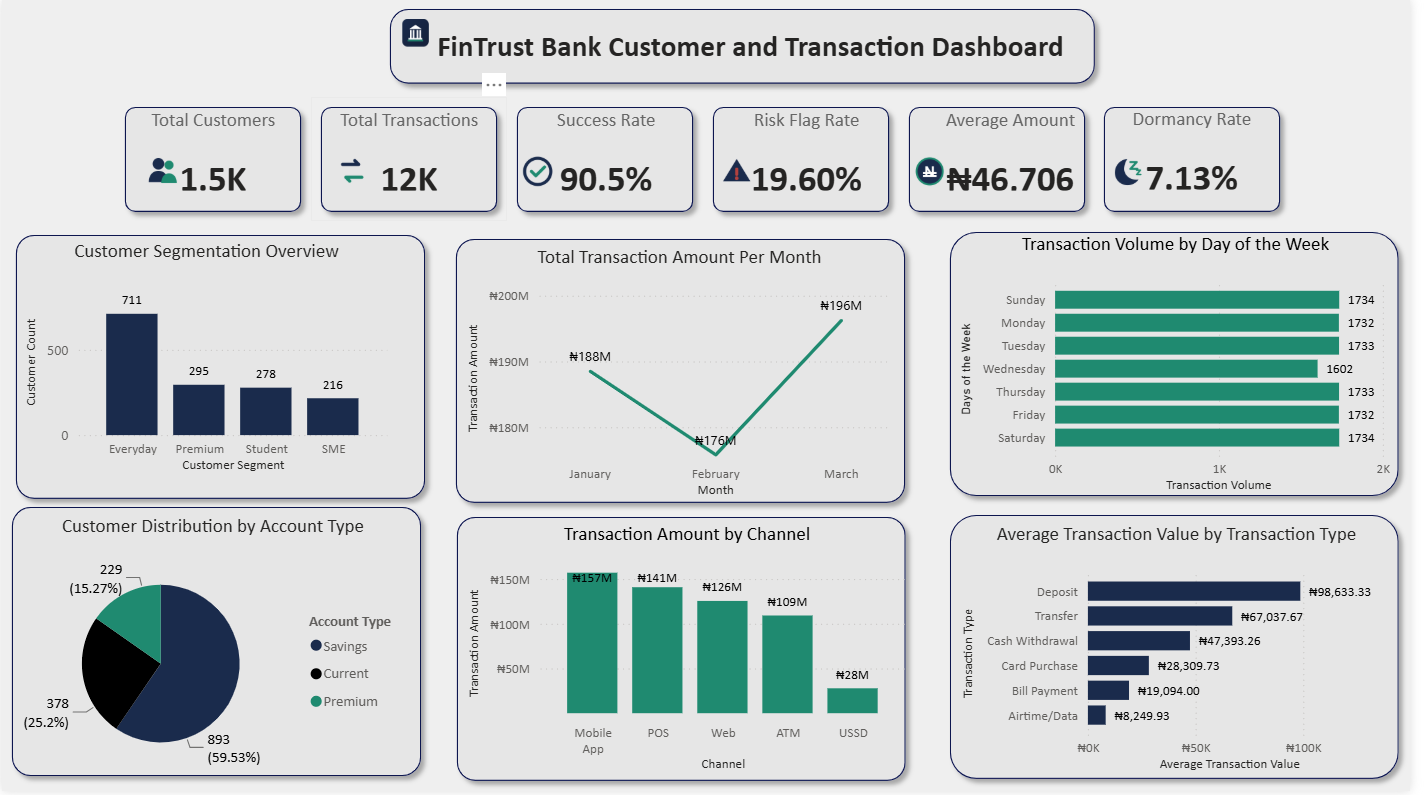

Layout of this report page (visuals, bound fields, positions):
{"tool":"powerbi","page":{"name":"Duplicate of FinTrust Bank","canvas":[1280,720],"ordinal":0},"visuals":[{"type":"shape","box":[271.3,0.9,723.5,86],"z":0},{"type":"textbox","box":[312.1,23.1,665,63.8],"z":1000},{"type":"shape","box":[102.9,88.7,178.2,113.5],"z":2000},{"type":"shape","box":[281.1,88.7,178.2,113.5],"z":3000},{"type":"shape","box":[459.3,88.7,178.2,113.5],"z":4000},{"type":"shape","box":[637.5,88.7,178.2,113.5],"z":5000},{"type":"shape","box":[852.7,202.7,426,258.2],"z":6000},{"type":"shape","box":[3.6,205.5,390,258],"z":7000},{"type":"shape","box":[403.6,209.5,426.4,258],"z":8000},{"type":"shape","box":[0,452.7,390,262.7],"z":9000},{"type":"shape","box":[852.7,460,426,258],"z":10000},{"type":"cardVisual","title":"Total Customers","fields":{"Data":["Copy of FinTrust_Customer_Data.Total Customers"]},"box":[112.6,98.4,158.7,93.1],"z":11000},{"type":"shape","box":[815.8,88.7,178.2,113.5],"z":12000},{"type":"image","box":[129.1,132.7,34.5,47],"z":13000},{"type":"cardVisual","title":"Total Transactions","fields":{"Data":["Copy of FinTrust_Customer_Data.Total Transactions"]},"box":[290.8,98.4,158.7,93.1],"z":14000},{"type":"cardVisual","title":"Success Rate","fields":{"Data":["Copy of FinTrust_Customer_Data.Success Rate"]},"box":[470,98.4,158.7,93.1],"z":15000},{"type":"cardVisual","title":"Risk Flag Rate","fields":{"Data":["Copy of FinTrust_Customer_Data.Risk Review Rate"]},"box":[628.7,98.4,204.8,93.1],"z":16000},{"type":"cardVisual","title":"Average Amount","fields":{"Data":["Avg(FinTrust_Transaction_Clean.Amount_NGN)"]},"box":[815.5,98.2,202.7,93.6],"z":17000},{"type":"lineChart","title":"Total Transaction Amount Per Month","fields":{"Y":["Sum(FinTrust_Transaction_Clean.Amount_NGN)"],"Category":["FinTrust_Transaction_Clean.Month Name"]},"box":[418.2,223.1,395.5,235.5],"z":18000},{"type":"barChart","title":"Average Transaction Value by Transaction Type","fields":{"Category":["FinTrust_Transaction_Clean.Transaction_Type"],"Y":["Avg(FinTrust_Transaction_Clean.Amount_NGN)"]},"box":[868.2,474.5,399.1,232.7],"z":19000},{"type":"pieChart","title":"Customer Distribution by Account Type","fields":{"Category":["Copy of FinTrust_Customer_Data.Account_Type"],"Y":["Count(FinTrust_Transaction_Clean.Customer_ID)"]},"box":[4.5,467.3,374.5,240.9],"z":20000},{"type":"barChart","title":"Transaction Volume by Day of the Week","fields":{"Y":["CountNonNull(FinTrust_Transaction_Clean.Transaction_ID)"],"Category":["FinTrust_Transaction_Clean.Day Name"]},"box":[866.4,210.9,400.9,242.7],"z":21000},{"type":"columnChart","title":"Customer Segmentation Overview","fields":{"Category":["Copy of FinTrust_Customer_Data.Customer_Segment"],"Y":["Count(FinTrust_Transaction_Clean.Customer_ID)"]},"box":[16,217.2,362.7,235.9],"z":22000},{"type":"image","box":[826.4,132.7,34,47],"z":23000},{"type":"image","box":[650.9,132.7,34,47],"z":24000},{"type":"image","box":[470,132.7,34,47],"z":25000},{"type":"image","box":[300.9,132.7,34.5,47.3],"z":26000},{"type":"shape","box":[993.1,88.7,178.2,113.5],"z":27000},{"type":"cardVisual","title":"Dormancy Rate","fields":{"Data":["Copy of FinTrust_Customer_Data.Dormancy Rate"]},"box":[1005.5,97.5,152.5,93.1],"z":28000},{"type":"shape","box":[404.5,462.2,426,258],"z":29000},{"type":"columnChart","title":"Transaction Amount by Channel","fields":{"Y":["Sum(FinTrust_Transaction_Clean.Amount_NGN)"],"Category":["FinTrust_Transaction_Clean.Channel"]},"box":[419.1,474.9,407.3,232.7],"z":30000},{"type":"image","box":[1005.5,133,34,47],"z":31000},{"type":"image","box":[289.1,22.2,46.1,32.8],"z":32000}]}

Visuals, with their boxes in screenshot pixels (x1, y1, x2, y2), scaled from the page's 1280x720 canvas onto the 1424x795 screenshot:
shape: bbox=(302, 1, 1107, 96)
textbox: bbox=(347, 26, 1087, 96)
shape: bbox=(114, 98, 313, 223)
shape: bbox=(313, 98, 511, 223)
shape: bbox=(511, 98, 709, 223)
shape: bbox=(709, 98, 907, 223)
shape: bbox=(949, 224, 1423, 509)
shape: bbox=(4, 227, 438, 512)
shape: bbox=(449, 231, 923, 516)
shape: bbox=(0, 500, 434, 790)
shape: bbox=(949, 508, 1423, 793)
"Total Customers" cardVisual: bbox=(125, 109, 302, 211)
shape: bbox=(908, 98, 1106, 223)
image: bbox=(144, 147, 182, 198)
"Total Transactions" cardVisual: bbox=(324, 109, 500, 211)
"Success Rate" cardVisual: bbox=(523, 109, 699, 211)
"Risk Flag Rate" cardVisual: bbox=(699, 109, 927, 211)
"Average Amount" cardVisual: bbox=(907, 108, 1133, 212)
"Total Transaction Amount Per Month" lineChart: bbox=(465, 246, 905, 506)
"Average Transaction Value by Transaction Type" barChart: bbox=(966, 524, 1410, 781)
"Customer Distribution by Account Type" pieChart: bbox=(5, 516, 422, 782)
"Transaction Volume by Day of the Week" barChart: bbox=(964, 233, 1410, 501)
"Customer Segmentation Overview" columnChart: bbox=(18, 240, 421, 500)
image: bbox=(919, 147, 957, 198)
image: bbox=(724, 147, 762, 198)
image: bbox=(523, 147, 561, 198)
image: bbox=(335, 147, 373, 199)
shape: bbox=(1105, 98, 1303, 223)
"Dormancy Rate" cardVisual: bbox=(1119, 108, 1288, 210)
shape: bbox=(450, 510, 924, 794)
"Transaction Amount by Channel" columnChart: bbox=(466, 524, 919, 781)
image: bbox=(1119, 147, 1156, 199)
image: bbox=(322, 25, 373, 61)
